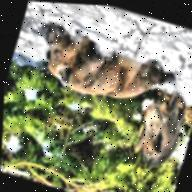boar: (27, 20, 183, 119), (127, 82, 192, 175)
